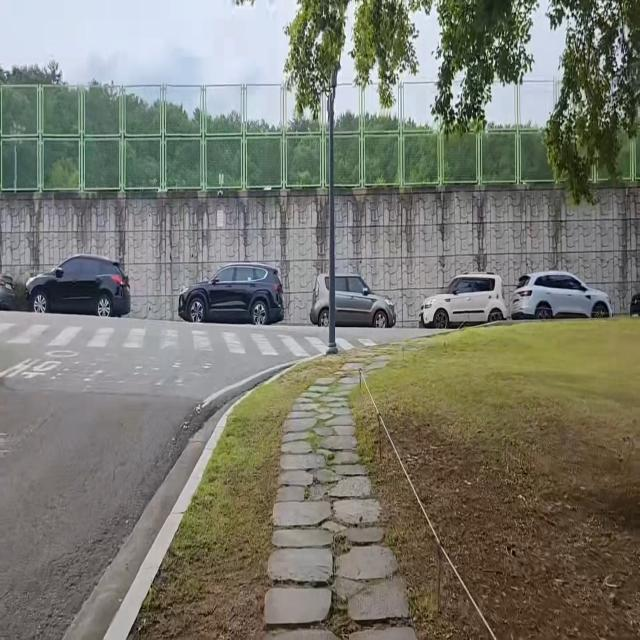obstacle: (172, 253, 292, 329), (18, 249, 136, 320), (304, 265, 402, 335), (409, 271, 507, 339), (509, 267, 618, 320)
road: (0, 307, 434, 640)
